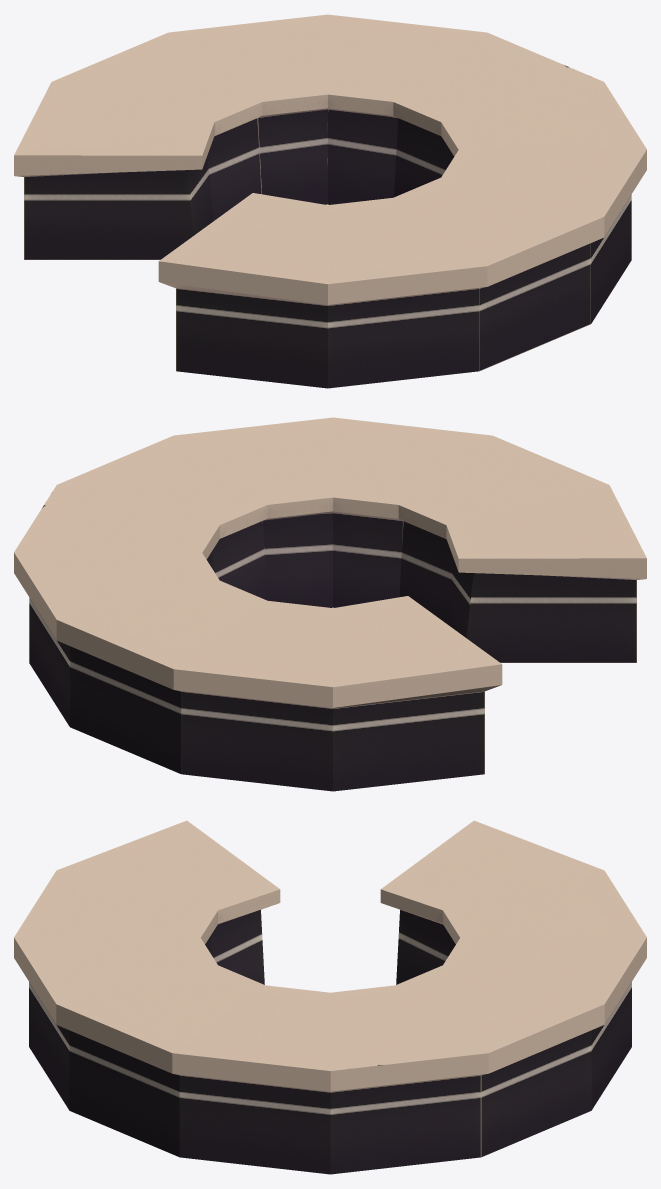
The model's file is RoundTable.obj.
The picture shows the model from 3 angles, top to bottom: view 1: azimuth 30°, elevation 25°; view 2: azimuth 150°, elevation 25°; view 3: azimuth 270°, elevation 25°; orthographic projection.
Visible parts, largest first — view 1: Cylinder.001; view 2: Cylinder.001; view 3: Cylinder.001.
Boxes of the visible parts, x1=… form: Cylinder.001: x1=14, y1=14, x2=646, y2=388; Cylinder.001: x1=14, y1=417, x2=646, y2=791; Cylinder.001: x1=14, y1=820, x2=646, y2=1174.
Size of the model in its own units: 9.84 by 2.01 by 10.5.
Materials: 1 (1 with a texture image).
